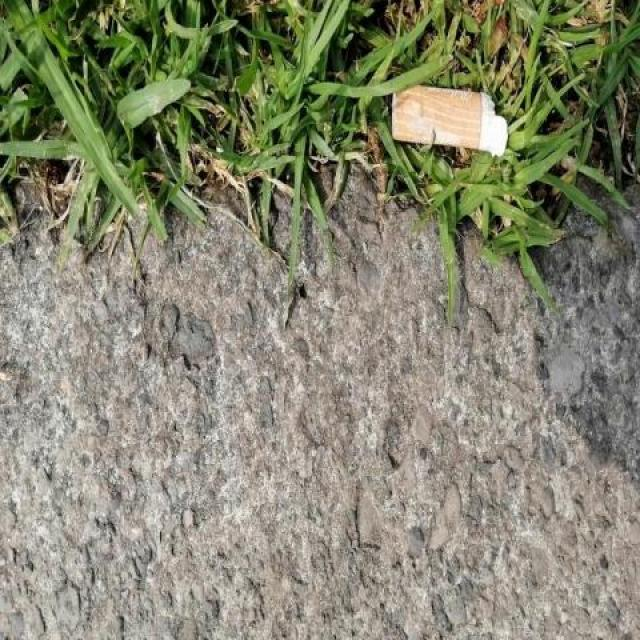non-organic waste: (386, 76, 513, 160)
